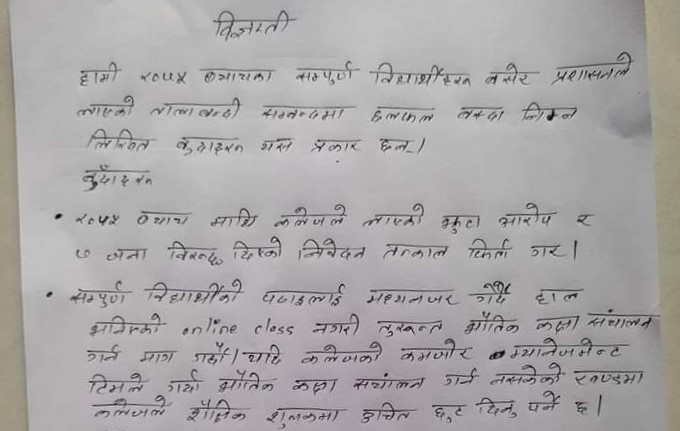text: (143, 278, 246, 309), (372, 60, 475, 90), (211, 6, 293, 43), (552, 51, 635, 86), (77, 162, 157, 196), (509, 337, 626, 360), (151, 94, 244, 121), (259, 281, 347, 309), (297, 341, 386, 368), (85, 313, 167, 341), (362, 286, 463, 308), (89, 397, 172, 423), (272, 203, 348, 231), (263, 403, 344, 429), (488, 361, 565, 388), (81, 125, 152, 154), (396, 338, 475, 364), (358, 201, 427, 230), (162, 239, 226, 270), (294, 237, 367, 264), (497, 201, 557, 233), (182, 398, 250, 426), (256, 101, 350, 121), (291, 60, 357, 88), (366, 101, 437, 127), (84, 370, 149, 398), (568, 365, 646, 388), (377, 238, 450, 262), (587, 308, 654, 334), (172, 135, 247, 158), (228, 235, 288, 263), (357, 400, 417, 428), (462, 311, 521, 339), (67, 281, 128, 308), (74, 95, 137, 121), (214, 371, 277, 397), (133, 206, 197, 231), (521, 99, 582, 125), (465, 235, 514, 266), (350, 373, 427, 392), (481, 61, 535, 88), (372, 316, 444, 336), (199, 67, 277, 85), (528, 309, 581, 335), (472, 395, 523, 422), (207, 206, 260, 231), (310, 312, 363, 337), (307, 135, 362, 159), (241, 341, 289, 367), (437, 210, 484, 236), (450, 105, 507, 126), (77, 61, 121, 88), (533, 284, 582, 307), (474, 280, 514, 308), (189, 341, 232, 367), (373, 132, 418, 156), (136, 67, 189, 87), (287, 376, 339, 396), (527, 390, 567, 416), (165, 368, 202, 396), (82, 341, 121, 366), (75, 211, 123, 231), (103, 246, 151, 266), (440, 366, 478, 391), (137, 343, 177, 366), (432, 399, 466, 425), (527, 240, 565, 263), (257, 137, 296, 158), (573, 209, 600, 236), (572, 396, 593, 418), (71, 246, 94, 261)
